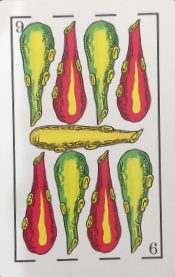9b: (9, 11, 161, 36)
